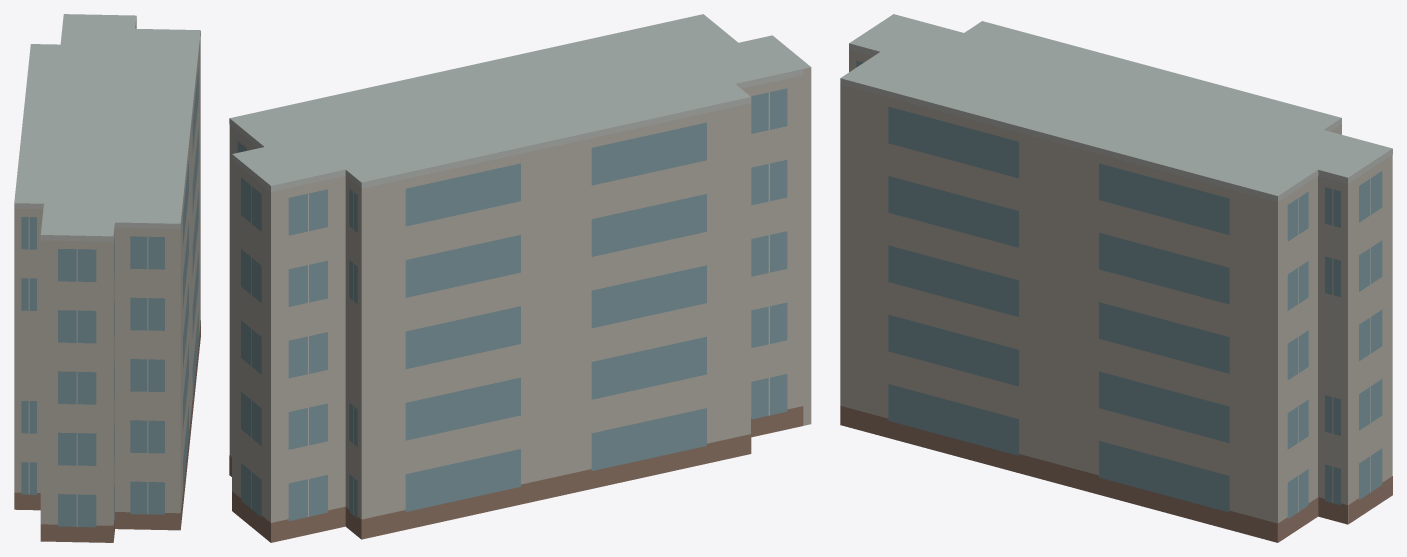
Rendered from survey-upis-32788650.glb.
The picture shows the model from 3 angles, left to right: view 1: azimuth 30°, elevation 25°; view 2: azimuth 150°, elevation 25°; view 3: azimuth 270°, elevation 25°; orthographic projection. The views are drawn at different scales.
Parts seen in each view (by area): view 1: survey-upis-32788650.tmp; view 2: survey-upis-32788650.tmp; view 3: survey-upis-32788650.tmp.
Boxes of the visible parts, box(x1,y1,x2,y2) form: survey-upis-32788650.tmp: box(14, 14, 200, 542); survey-upis-32788650.tmp: box(229, 14, 811, 542); survey-upis-32788650.tmp: box(840, 14, 1392, 542).
Bounding box in the file's own units: 15.66 × 13.9 × 20.08.
